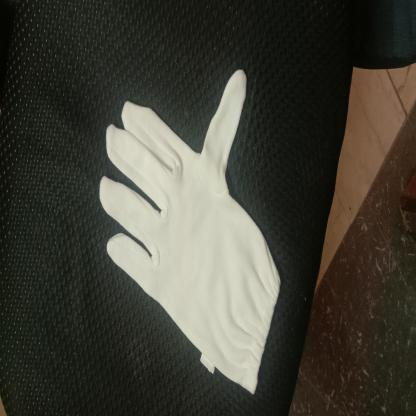gloved_hand: (97, 64, 282, 396)
